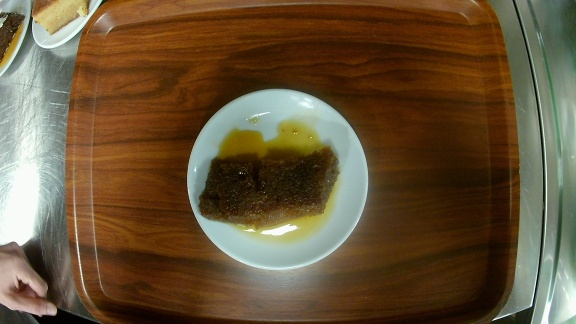ekmekkadayifi: (187, 87, 370, 270)
